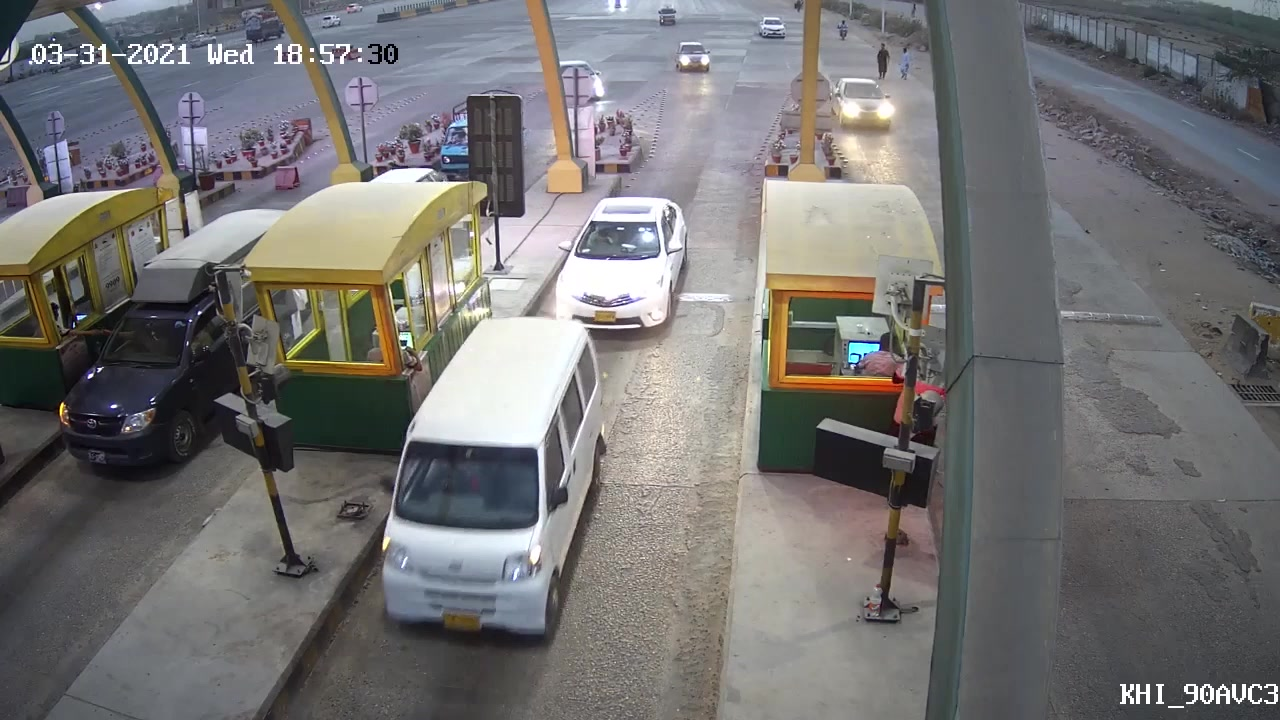F1: (375, 315, 608, 643), (540, 189, 699, 343)
